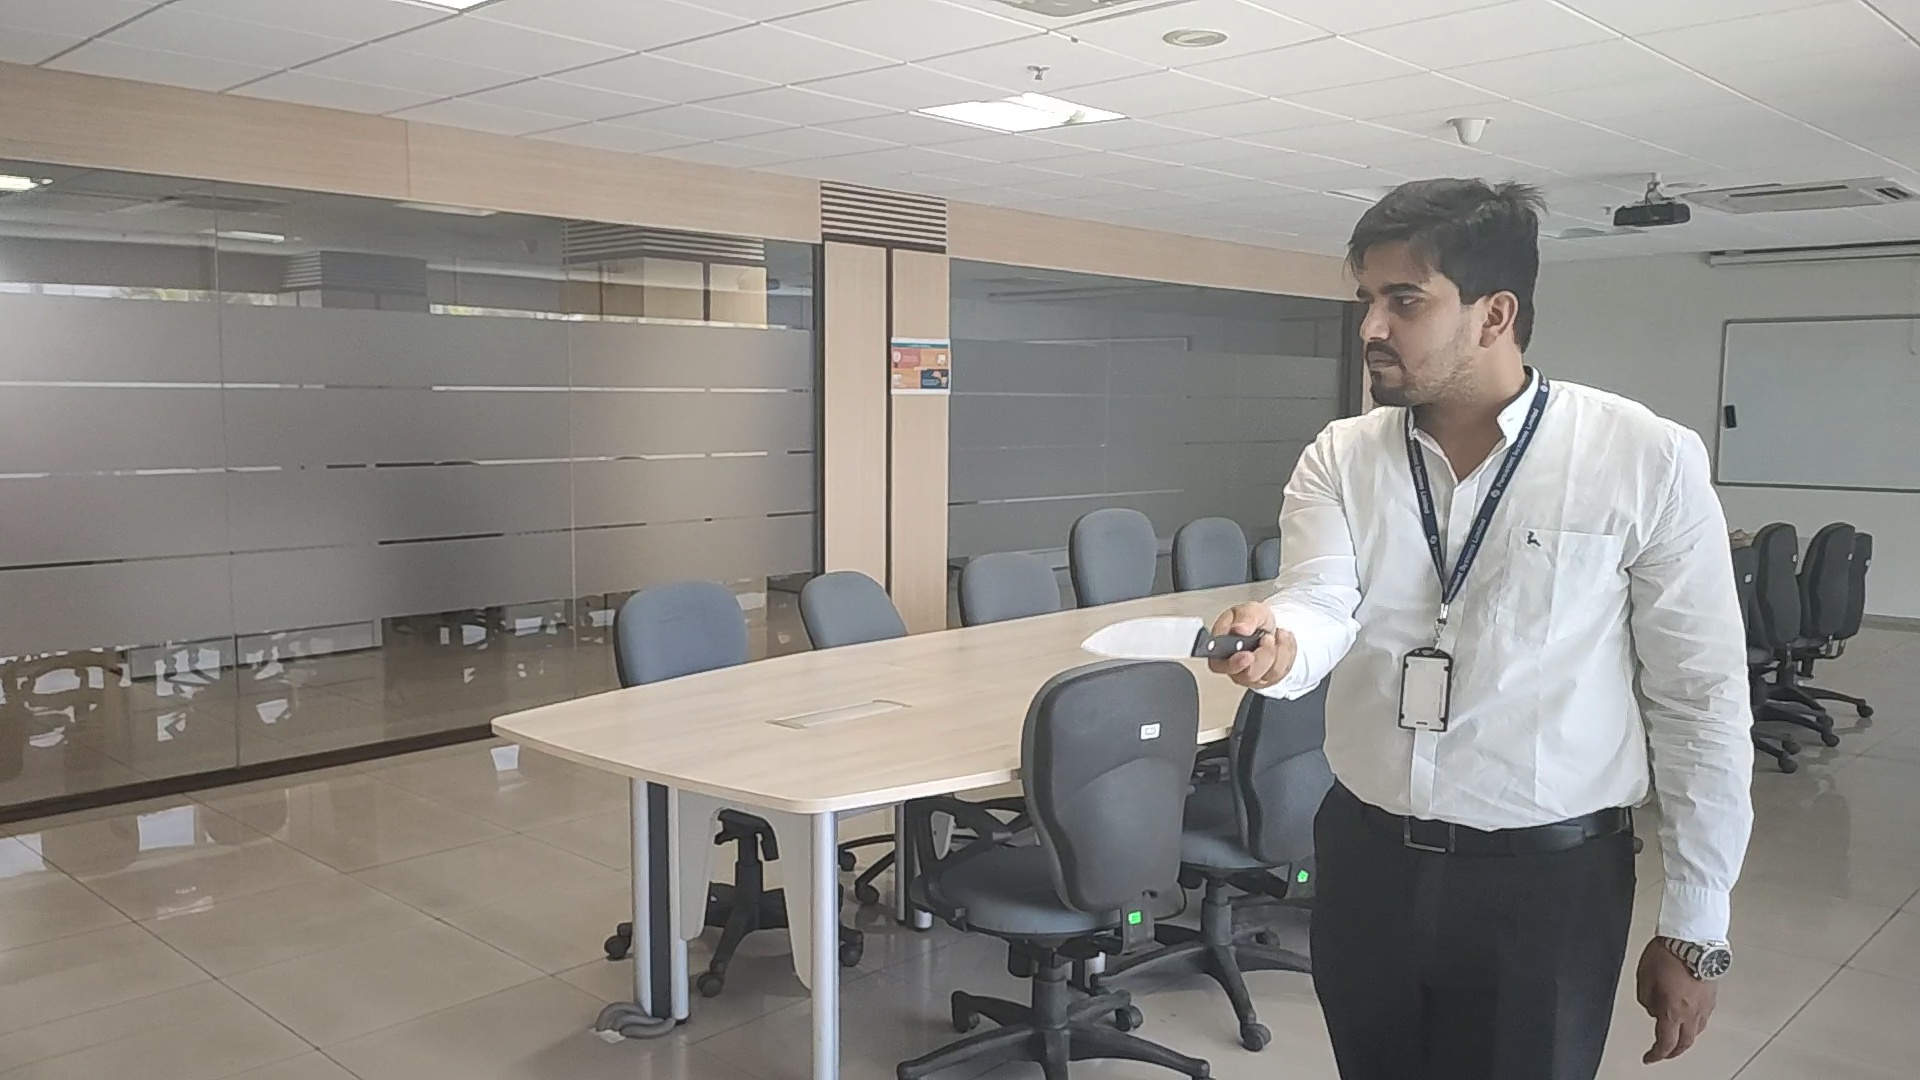knife: (1079, 615, 1251, 662)
